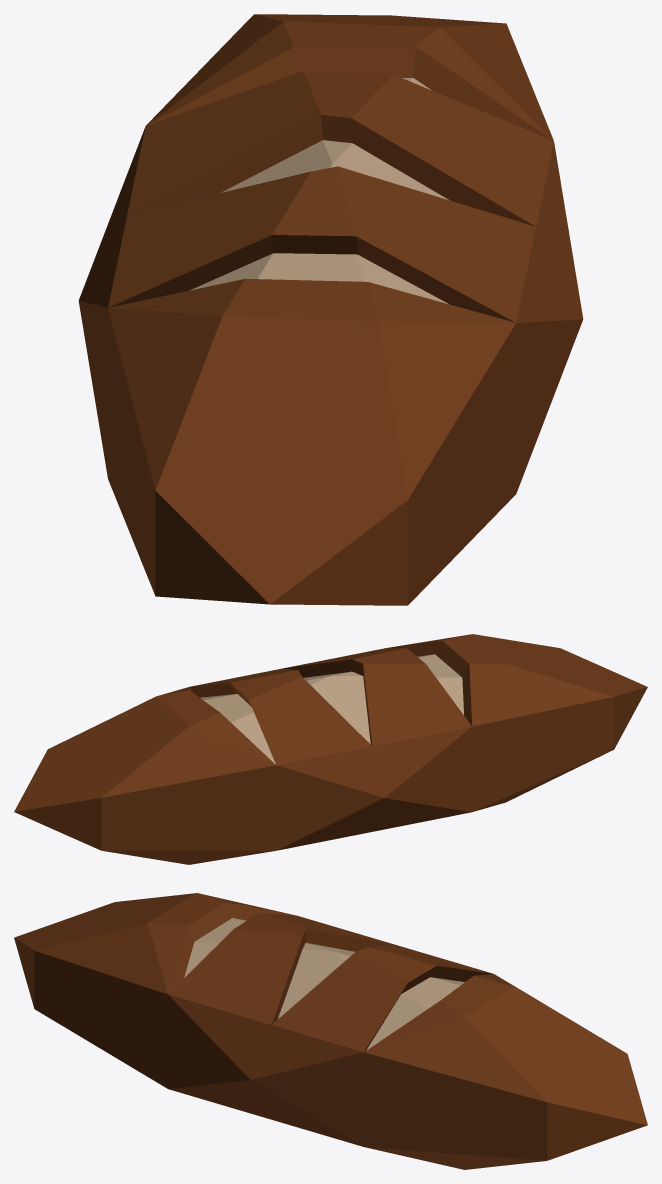
The model's file is bread_.FBX.
The picture shows the model from 3 angles, top to bottom: view 1: azimuth 30°, elevation 25°; view 2: azimuth 150°, elevation 25°; view 3: azimuth 270°, elevation 25°; orthographic projection. The views are drawn at different scales.
Visible parts, largest first — view 1: Hedra006; view 2: Hedra006; view 3: Hedra006.
Boxes of the visible parts, x1,y1,x2,y2 form: Hedra006: (78,14,583,605); Hedra006: (14,634,647,864); Hedra006: (14,893,647,1169).
Bounding box in the file's own units: 23.08 × 30.88 × 10.03.
